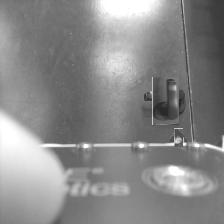Door Handle: (148, 83, 184, 120)
Lock: (171, 131, 186, 145)
